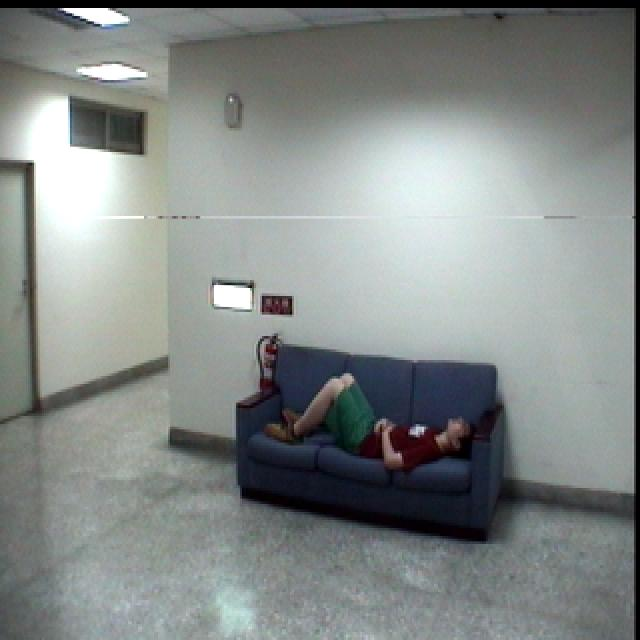lie: (265, 371, 478, 476)
